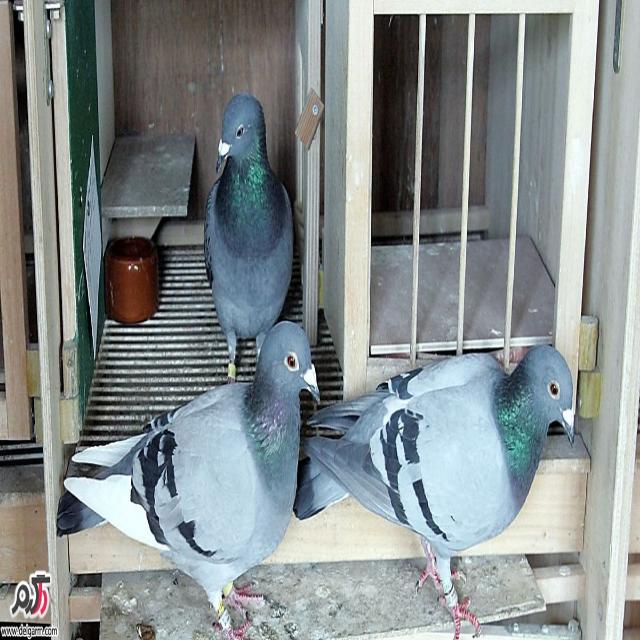bird: (288, 331, 578, 640), (51, 314, 323, 638), (202, 88, 295, 382)
